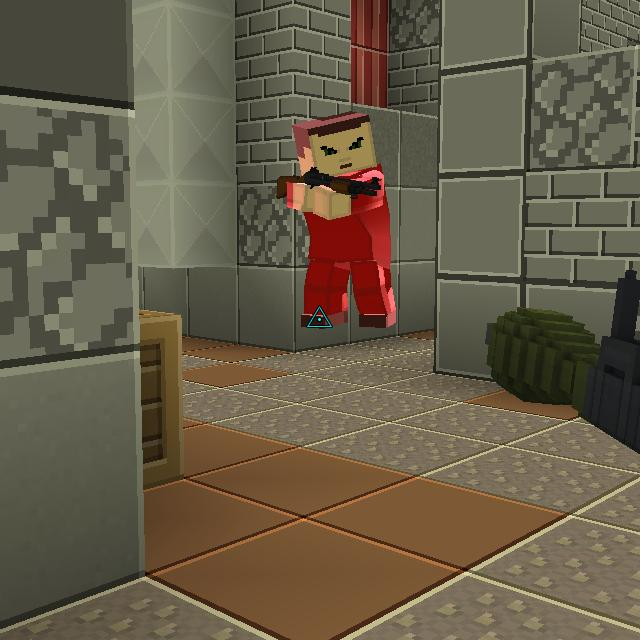enemy: (283, 109, 402, 332)
